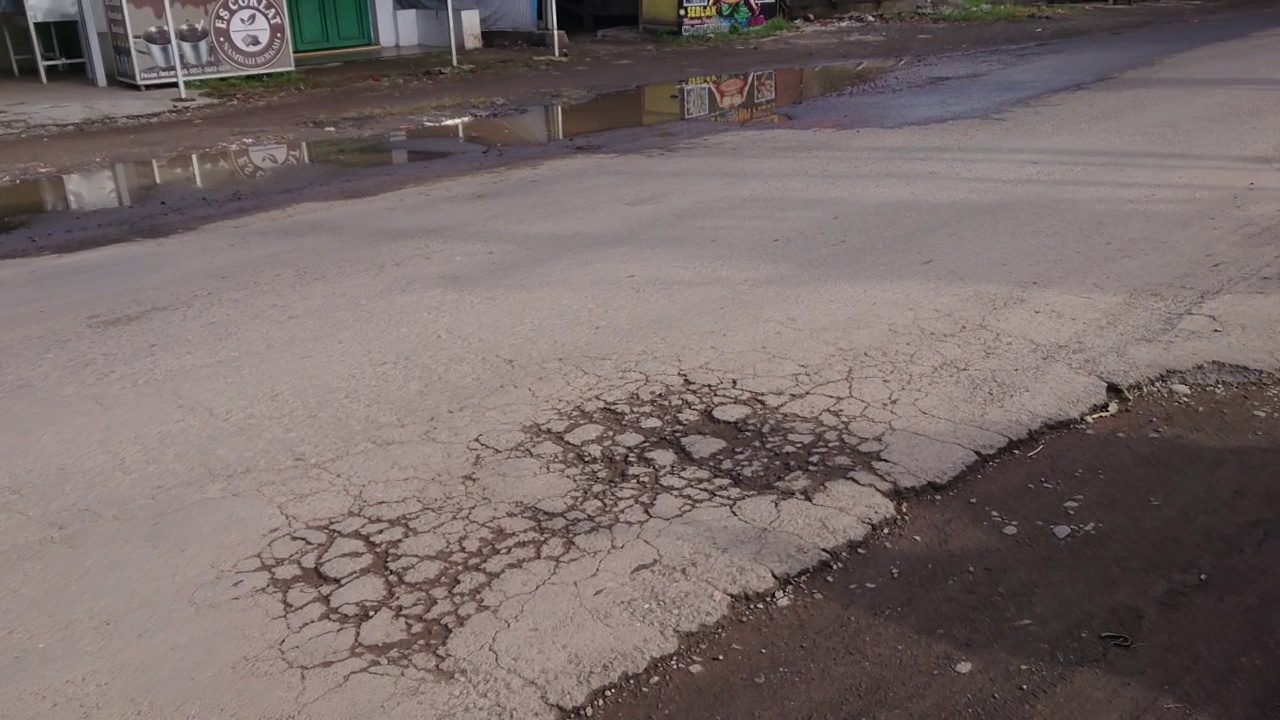Retak: (280, 368, 838, 654), (850, 341, 1008, 418)
